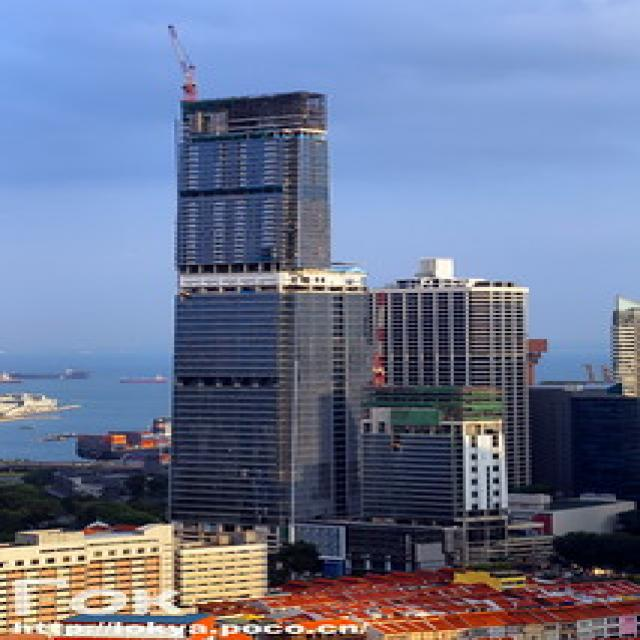Normal_building: (164, 87, 377, 537), (375, 274, 541, 543)
